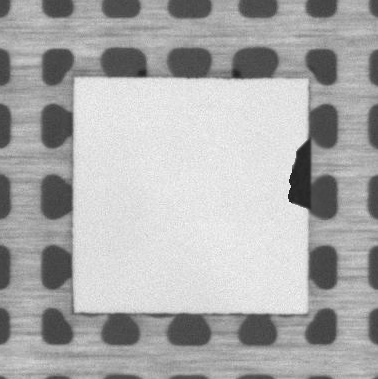DIE_BROKEN: (286, 136, 313, 216)
